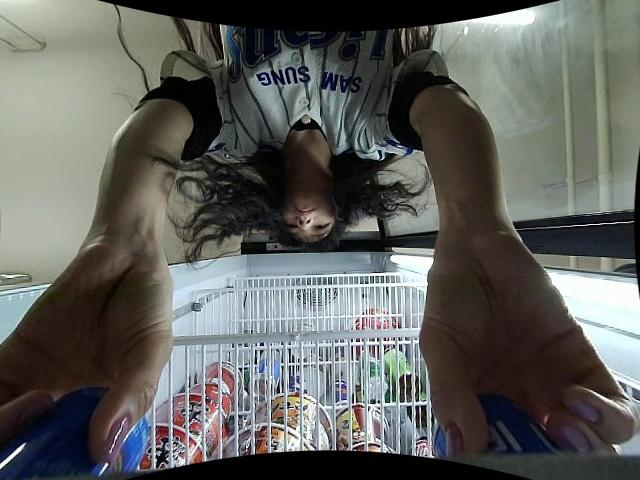00_hand: (418, 245, 640, 458), (0, 245, 175, 463)
15_letsbe: (0, 385, 151, 480), (432, 388, 570, 458)
